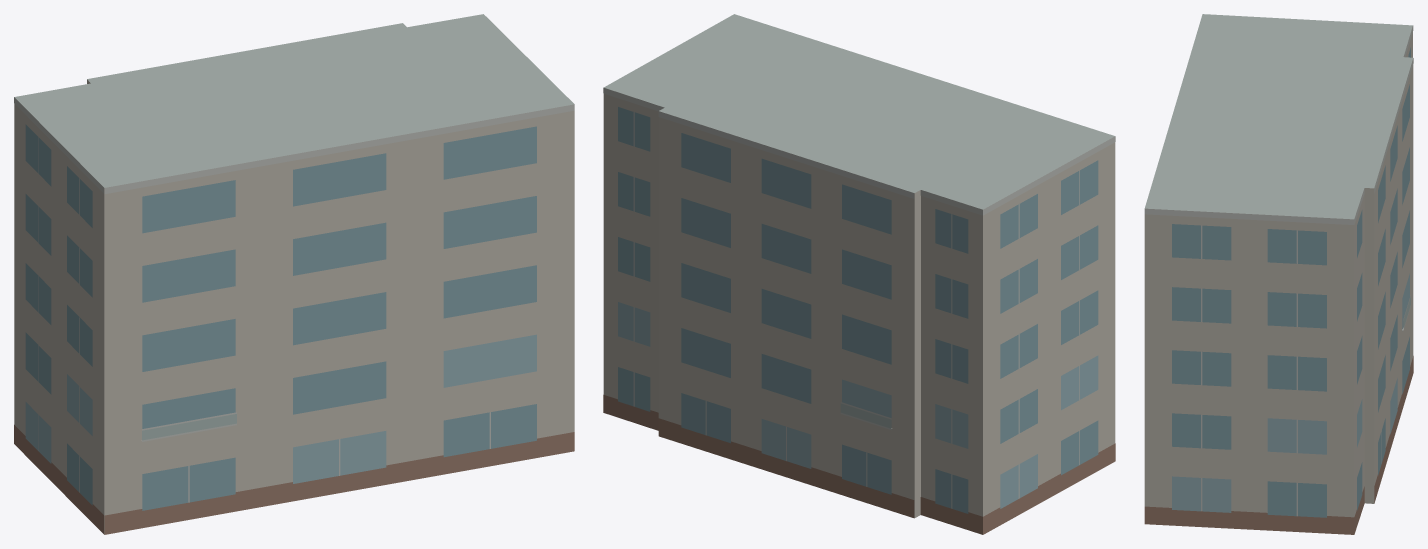
The model's file is survey-upis-32532524.glb.
3 renders of one model, left to right at view 1: azimuth 30°, elevation 25°; view 2: azimuth 150°, elevation 25°; view 3: azimuth 270°, elevation 25°, orthographic. The views are drawn at different scales.
Parts seen in each view (by area): view 1: survey-upis-32532524.tmp; view 2: survey-upis-32532524.tmp; view 3: survey-upis-32532524.tmp.
Part boxes in pixels (x1=…): survey-upis-32532524.tmp: x1=14, y1=14, x2=574, y2=534; survey-upis-32532524.tmp: x1=603, y1=14, x2=1115, y2=534; survey-upis-32532524.tmp: x1=1144, y1=14, x2=1413, y2=534.
Bounding box in the file's own units: 18.64 × 13.35 × 10.32.
